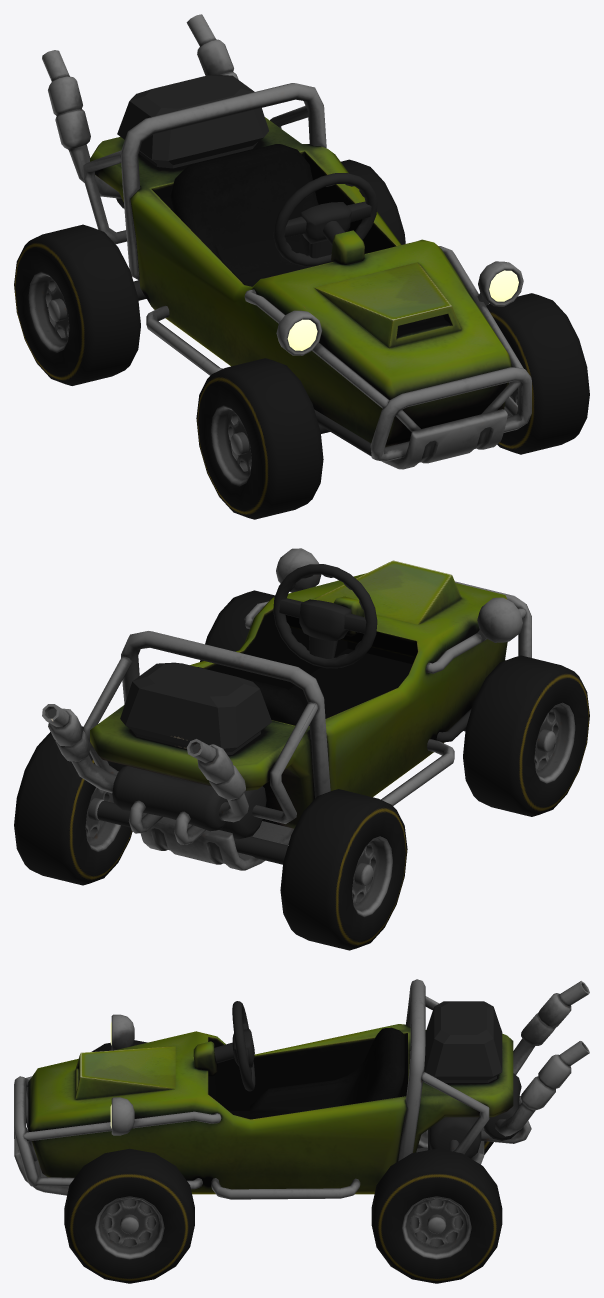
File: BaseRaceKart6.gltf
3 renders of one model, top to bottom at view 1: azimuth 30°, elevation 25°; view 2: azimuth 150°, elevation 25°; view 3: azimuth 270°, elevation 25°, orthographic. The views are drawn at different scales.
Parts seen in each view (by area): view 1: body, wheel-back-right.010, wheel-front-right.001, wheel-front-left.007, SteeringWheel, wheel-back-left.002; view 2: body, wheel-front-right.001, wheel-back-right.010, wheel-back-left.002, SteeringWheel, wheel-front-left.007, underbody; view 3: body, wheel-back-left.002, wheel-front-left.007, SteeringWheel.
Part boxes in pixels (<box>): body: <box>42,14,531,469</box>; wheel-back-right.010: <box>14,224,140,385</box>; wheel-front-right.001: <box>196,358,323,519</box>; wheel-front-left.007: <box>486,293,589,454</box>; SteeringWheel: <box>273,173,377,266</box>; wheel-back-left.002: <box>341,159,405,244</box>; body: <box>42,548,531,870</box>; wheel-front-right.001: <box>463,655,589,816</box>; wheel-back-right.010: <box>280,789,407,950</box>; wheel-back-left.002: <box>14,726,132,885</box>; SteeringWheel: <box>273,564,377,668</box>; wheel-front-left.007: <box>200,590,275,661</box>; underbody: <box>97,728,465,864</box>; body: <box>14,979,589,1199</box>; wheel-back-left.002: <box>371,1148,502,1283</box>; wheel-front-left.007: <box>64,1148,194,1283</box>; SteeringWheel: <box>232,1001,255,1091</box>.
Size of the model in its own units: 1.61 by 1.21 by 2.94.
Materials: 1 (1 with a texture image).
